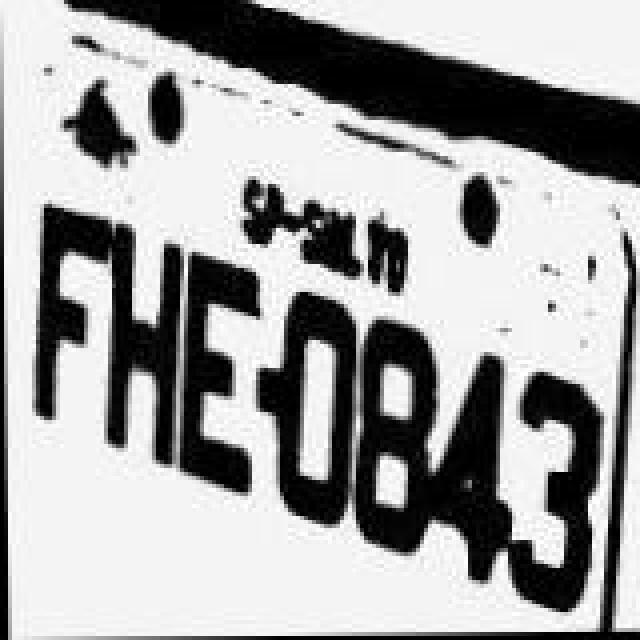3: (506, 340, 602, 616)
4: (428, 352, 512, 588)
8: (354, 316, 442, 556)
E: (176, 250, 264, 498)
F: (28, 206, 116, 434)
H: (100, 220, 188, 464)
O: (272, 290, 360, 534)
